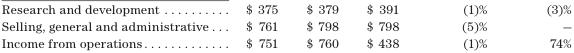table: (0, 1, 570, 50)
table column: (0, 1, 229, 50), (429, 1, 516, 50), (351, 1, 429, 50), (229, 1, 291, 50), (291, 1, 351, 50), (516, 1, 570, 50)
table column header: (0, 1, 570, 17)
table row: (0, 17, 570, 34), (0, 1, 570, 17), (0, 34, 570, 50)
